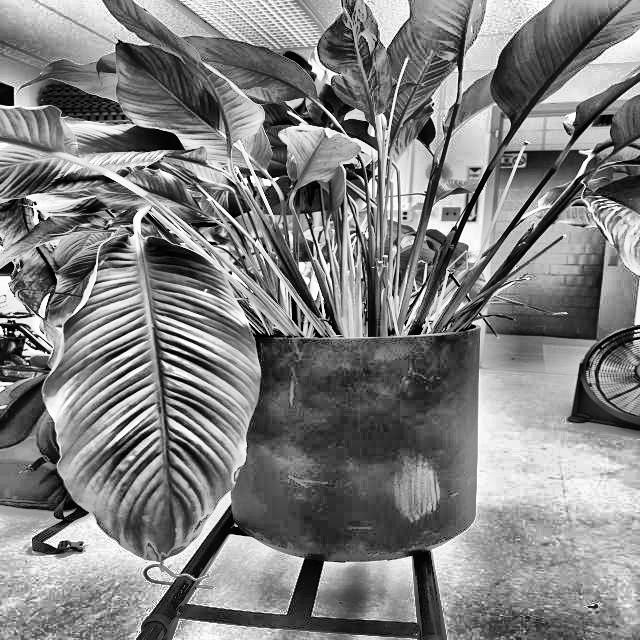plants: (33, 38, 606, 322)
